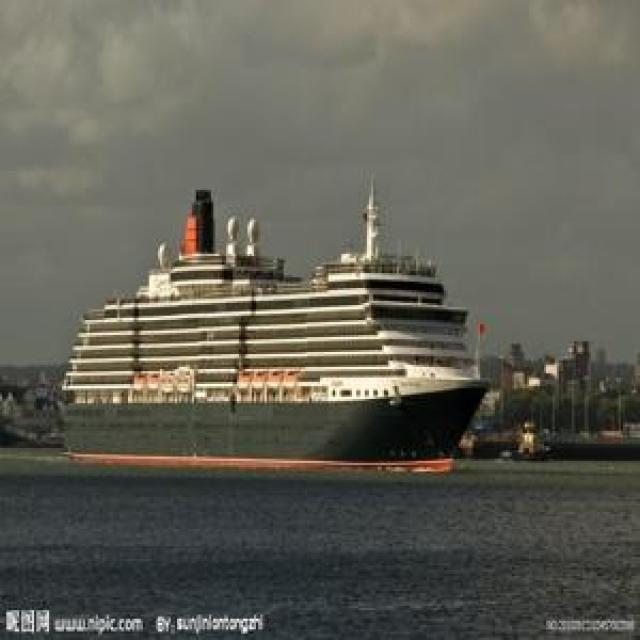houseboat: (56, 191, 500, 475)
